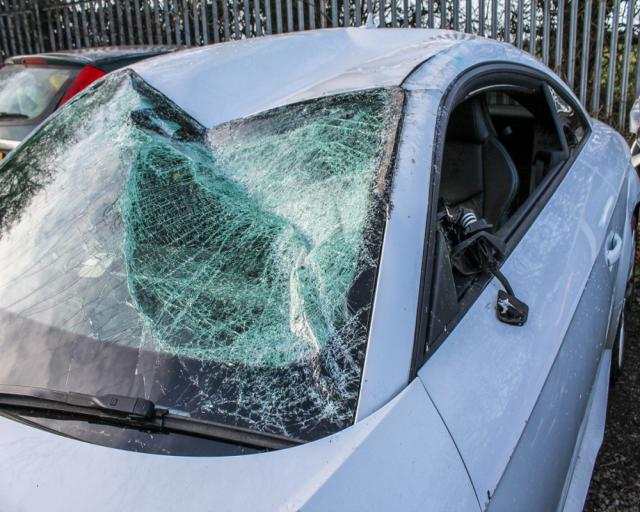dent: (180, 28, 440, 129)
glass shatter: (0, 69, 406, 457)
